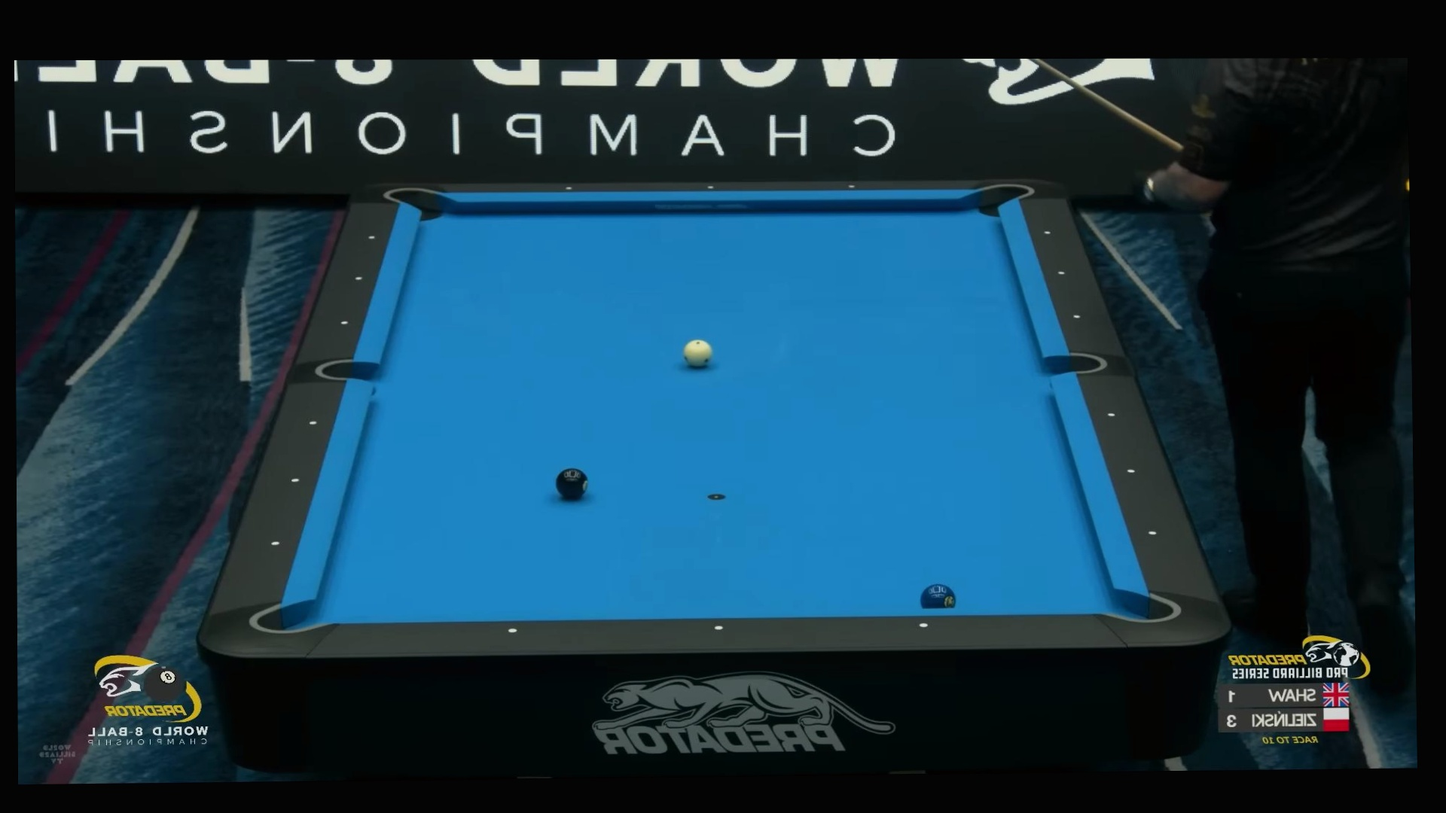Black: (554, 466, 589, 500)
Cue: (682, 338, 712, 370)
Solid: (1105, 409, 1116, 420), (1042, 227, 1053, 238), (846, 181, 857, 192), (366, 232, 377, 243), (353, 273, 364, 284), (1126, 466, 1136, 477), (1071, 311, 1081, 322), (1056, 268, 1067, 278), (339, 317, 350, 327), (270, 538, 280, 549), (508, 626, 519, 636), (715, 622, 726, 632), (919, 620, 930, 630), (1149, 528, 1159, 538), (705, 182, 715, 192), (564, 183, 574, 193), (308, 418, 318, 428), (290, 476, 300, 486)
Striped: (919, 583, 955, 611)
